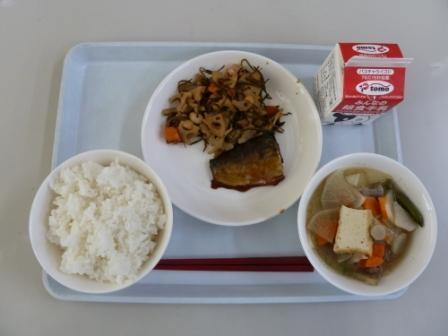Fish: (206, 126, 294, 196)
Milk: (309, 37, 421, 141)
Rice: (32, 153, 162, 285)
Soups: (295, 150, 440, 298)
salad with sauce: (158, 56, 287, 157)
